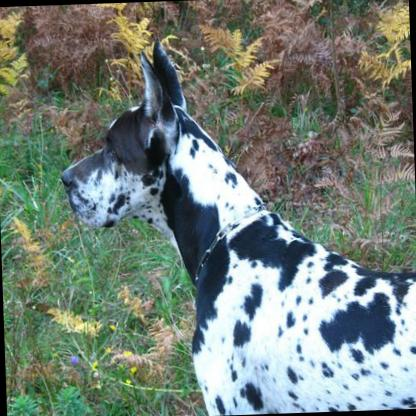Great_Dane: (55, 27, 416, 416)
